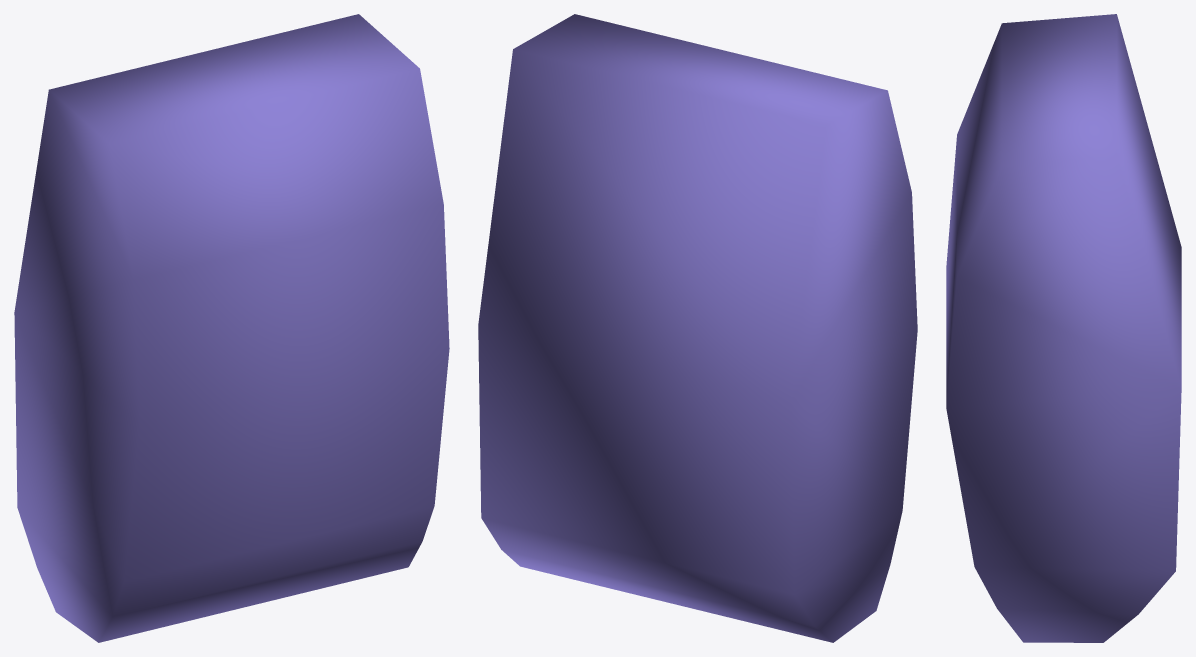
File: Cactus_Short_03_SPR_COL.fbx
The picture shows the model from 3 angles, left to right: view 1: azimuth 30°, elevation 25°; view 2: azimuth 150°, elevation 25°; view 3: azimuth 270°, elevation 25°; orthographic projection. The views are drawn at different scales.
Parts seen in each view (by area): view 1: Cactus_Short_03_SPR_COL; view 2: Cactus_Short_03_SPR_COL; view 3: Cactus_Short_03_SPR_COL.
Part boxes in pixels (box(x1,y1,x2,y2)): Cactus_Short_03_SPR_COL: box(14, 14, 449, 642); Cactus_Short_03_SPR_COL: box(478, 14, 917, 642); Cactus_Short_03_SPR_COL: box(946, 14, 1181, 642).
Size of the model in its own units: 66.62 by 106 by 46.53.
